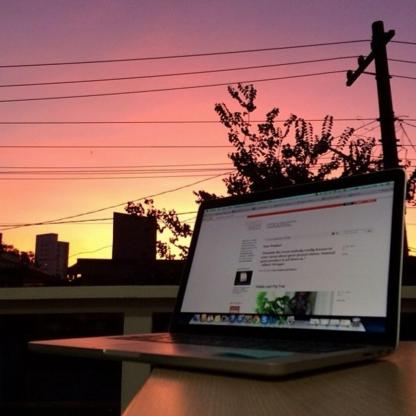board: (28, 168, 406, 380)
